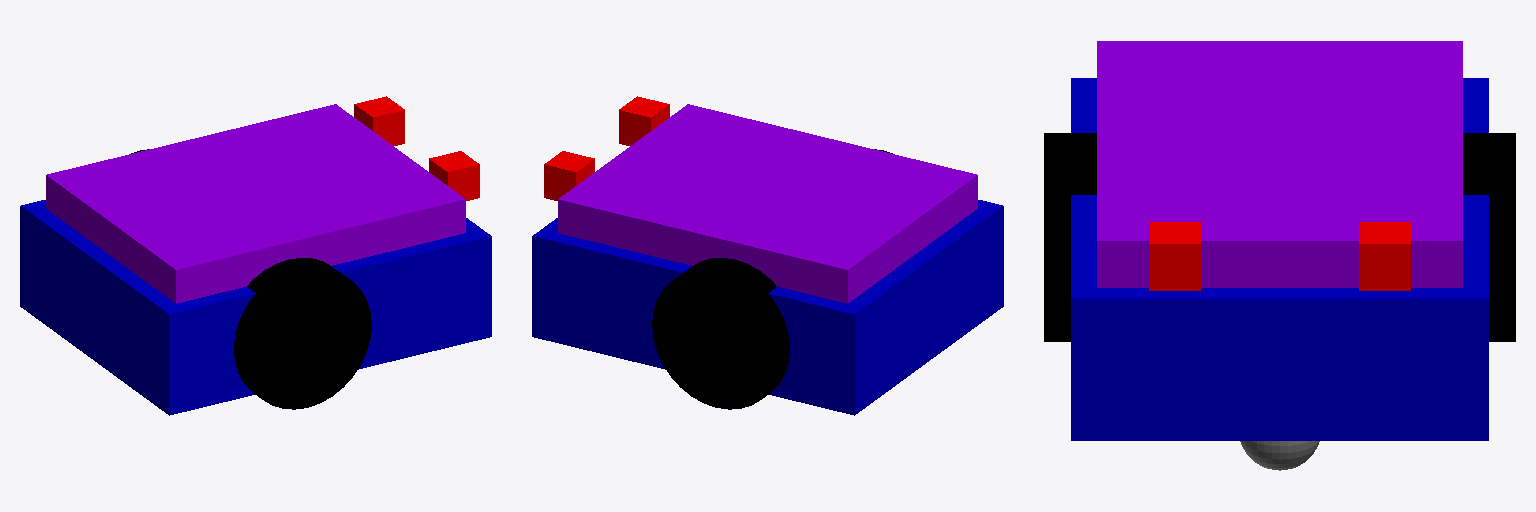
robot.urdf — my_robot:
<?xml version="1.0"?>
<robot name="my_robot">

  <!-- ================== BASE CHASSIS ================== -->
  <link name="base_link">
    <visual>
      <geometry>
        <!-- 0.5 x 0.4 x 0.15 -->
        <box size="0.5 0.4 0.15"/>
      </geometry>
      <material name="blue">
        <color rgba="0 0 0.8 1"/>
      </material>
    </visual>
    <collision>
      <geometry>
        <box size="0.5 0.4 0.15"/>
      </geometry>
    </collision>
    <inertial>
      <mass value="5.0"/>
      <origin xyz="0 0 0" rpy="0 0 0"/>
      <inertia ixx="0.2" ixy="0.0" ixz="0.0"
               iyy="0.3" iyz="0.0"
               izz="0.4"/>
    </inertial>
  </link>

  <!-- ================== PURPLE TOP COVER ================== -->
  <link name="top_cover">
    <visual>
      <geometry>
        <!-- a bit smaller than base -->
        <box size="0.45 0.35 0.05"/>
      </geometry>
      <material name="purple">
        <color rgba="0.6 0 0.9 1"/>
      </material>
    </visual>
    <collision>
      <geometry>
        <box size="0.45 0.35 0.05"/>
      </geometry>
    </collision>
    <inertial>
      <mass value="1.0"/>
      <origin xyz="0 0 0.1" rpy="0 0 0"/>
      <inertia ixx="0.02" ixy="0.0" ixz="0.0"
               iyy="0.03" iyz="0.0"
               izz="0.04"/>
    </inertial>
  </link>

  <joint name="top_cover_joint" type="fixed">
    <parent link="base_link"/>
    <!-- 0.10 m above top of base -->
    <child link="top_cover"/>
    <origin xyz="0 0 0.10" rpy="0 0 0"/>
  </joint>

  <!-- ================== WHEELS ================== -->
  <!-- 0.10 radius, 0.05 thick; axis along Y (like lab robot) -->

  <link name="left_wheel">
    <visual>
      <geometry>
        <cylinder radius="0.10" length="0.05"/>
      </geometry>
      <material name="black">
        <color rgba="0 0 0 1"/>
      </material>
      <!-- rotate so wheel lies in XZ plane -->
      <origin xyz="0 0 0" rpy="1.5707 0 0"/>
    </visual>
    <collision>
      <geometry>
        <cylinder radius="0.10" length="0.05"/>
      </geometry>
      <origin xyz="0 0 0" rpy="1.5707 0 0"/>
    </collision>
    <inertial>
      <mass value="0.7"/>
      <origin xyz="0 0 0" rpy="1.5707 0 0"/>
      <inertia ixx="0.002" ixy="0.0" ixz="0.0"
               iyy="0.002" iyz="0.0"
               izz="0.001"/>
    </inertial>
  </link>

  <link name="right_wheel">
    <visual>
      <geometry>
        <cylinder radius="0.10" length="0.05"/>
      </geometry>
      <material name="black">
        <color rgba="0 0 0 1"/>
      </material>
      <origin xyz="0 0 0" rpy="1.5707 0 0"/>
    </visual>
    <collision>
      <geometry>
        <cylinder radius="0.10" length="0.05"/>
      </geometry>
      <origin xyz="0 0 0" rpy="1.5707 0 0"/>
    </collision>
    <inertial>
      <mass value="0.7"/>
      <origin xyz="0 0 0" rpy="1.5707 0 0"/>
      <inertia ixx="0.002" ixy="0.0" ixz="0.0"
               iyy="0.002" iyz="0.0"
               izz="0.001"/>
    </inertial>
  </link>

  <!-- wheel centres: a bit back, ±0.20 m sideways -->
  <joint name="left_wheel_joint" type="continuous">
    <parent link="base_link"/>
    <child link="left_wheel"/>
    <origin xyz="-0.05 0.20 0" rpy="0 0 0"/>
    <axis xyz="0 1 0"/>
  </joint>

  <joint name="right_wheel_joint" type="continuous">
    <parent link="base_link"/>
    <child link="right_wheel"/>
    <origin xyz="-0.05 -0.20 0" rpy="0 0 0"/>
    <axis xyz="0 1 0"/>
  </joint>

  <!-- ================== CASTER WHEEL ================== -->
  <link name="caster_wheel">
    <visual>
      <geometry>
        <sphere radius="0.04"/>
      </geometry>
      <material name="grey">
        <color rgba="0.5 0.5 0.5 1"/>
      </material>
    </visual>
    <collision>
      <geometry>
        <sphere radius="0.04"/>
      </geometry>
    </collision>
    <inertial>
      <mass value="0.3"/>
      <origin xyz="0 0 0" rpy="0 0 0"/>
      <inertia ixx="0.0002" ixy="0.0" ixz="0.0"
               iyy="0.0002" iyz="0.0"
               izz="0.0002"/>
    </inertial>
  </link>

  <!-- Put caster slightly forward & centred, touching ground -->
  <joint name="caster_joint" type="fixed">
    <parent link="base_link"/>
    <child link="caster_wheel"/>
    <origin xyz="0.20 0 -0.085" rpy="0 0 0"/>
  </joint>

  <!-- ================== STEREO CAMERAS ================== -->

  <!-- Left camera body -->
  <link name="left_camera_link">
    <visual>
      <geometry>
        <box size="0.05 0.05 0.05"/>
      </geometry>
      <material name="red">
        <color rgba="1 0 0 1"/>
      </material>
    </visual>
    <collision>
      <geometry>
        <box size="0.05 0.05 0.05"/>
      </geometry>
    </collision>
    <inertial>
      <mass value="0.05"/>
      <origin xyz="0 0 0" rpy="0 0 0"/>
      <inertia ixx="0.0001" ixy="0.0" ixz="0.0"
               iyy="0.0001" iyz="0.0"
               izz="0.0001"/>
    </inertial>
  </link>

  <!-- Right camera body -->
  <link name="right_camera_link">
    <visual>
      <geometry>
        <box size="0.05 0.05 0.05"/>
      </geometry>
      <material name="red">
        <color rgba="1 0 0 1"/>
      </material>
    </visual>
    <collision>
      <geometry>
        <box size="0.05 0.05 0.05"/>
      </geometry>
    </collision>
    <inertial>
      <mass value="0.05"/>
      <origin xyz="0 0 0" rpy="0 0 0"/>
      <inertia ixx="0.0001" ixy="0.0" ixz="0.0"
               iyy="0.0001" iyz="0.0"
               izz="0.0001"/>
    </inertial>
  </link>

  <!-- Optical frames (no visuals, just TF) -->
  <link name="left_camera_optical">
    <inertial>
      <mass value="0.001"/>
      <origin xyz="0 0 0" rpy="0 0 0"/>
      <inertia ixx="1e-5" ixy="0.0" ixz="0.0"
               iyy="1e-5" iyz="0.0"
               izz="1e-5"/>
    </inertial>
  </link>

  <link name="right_camera_optical">
    <inertial>
      <mass value="0.001"/>
      <origin xyz="0 0 0" rpy="0 0 0"/>
      <inertia ixx="1e-5" ixy="0.0" ixz="0.0"
               iyy="1e-5" iyz="0.0"
               izz="1e-5"/>
    </inertial>
  </link>

  <!-- Mount cameras at front, 0.2 m baseline, 0.12 m high -->
  <joint name="left_camera_joint" type="fixed">
    <parent link="base_link"/>
    <child link="left_camera_link"/>
    <origin xyz="0.25 0.10 0.12" rpy="0 0 0"/>
  </joint>

  <joint name="right_camera_joint" type="fixed">
    <parent link="base_link"/>
    <child link="right_camera_link"/>
    <origin xyz="0.25 -0.10 0.12" rpy="0 0 0"/>
  </joint>

  <!-- Optical frame rotation: x forward, y left, z up  -->
  <joint name="left_camera_optical_joint" type="fixed">
    <parent link="left_camera_link"/>
    <child link="left_camera_optical"/>
    <origin xyz="0 0 0" rpy="-1.5707 0 -1.5707"/>
  </joint>

  <joint name="right_camera_optical_joint" type="fixed">
    <parent link="right_camera_link"/>
    <child link="right_camera_optical"/>
    <origin xyz="0 0 0" rpy="-1.5707 0 -1.5707"/>
  </joint>
 <!-- Left camera sensor link -->
 <gazebo reference="left_camera_link">
  <sensor type="camera" name="left_camera_sensor">
    <update_rate>30</update_rate>
    <camera>
      <horizontal_fov>1.0</horizontal_fov>
      <image>
        <width>640</width>
        <height>480</height>
        <format>R8G8B8</format>
      </image>
      <clip>
        <near>0.1</near>
        <far>10</far>
      </clip>
    </camera>
    <always_on>true</always_on>
    <visualize>true</visualize>
    <topic>/left_camera/image_raw</topic>
  </sensor>
</gazebo>
<!-- Right camera sensor link -->
<gazebo reference="right_camera_link">
  <sensor type="camera" name="right_camera_sensor">
    <update_rate>30</update_rate>
    <camera>
      <horizontal_fov>1.0</horizontal_fov>
      <image>
        <width>640</width>
        <height>480</height>
        <format>R8G8B8</format>
      </image>
      <clip>
        <near>0.1</near>
        <far>10</far>
      </clip>
    </camera>
    <always_on>true</always_on>
    <visualize>true</visualize>
    <topic>/right_camera/image_raw</topic>
  </sensor>
</gazebo>
 
</robot>

--- Facts derived from the render (not from the file) ---
Views: 3 orthographic renders of the robot side by side, from view 1: azimuth 30°, elevation 25°; view 2: azimuth 150°, elevation 25°; view 3: azimuth 270°, elevation 25°.
Model my_robot with 9 links and 8 joints (2 continuous, 6 fixed), rooted at base_link, posed every joint at zero.
Visible links, largest first — view 1: top_cover, base_link, right_wheel, right_camera_link, left_camera_link; view 2: top_cover, base_link, left_wheel, left_camera_link, right_camera_link; view 3: top_cover, base_link, left_wheel, right_wheel, left_camera_link, right_camera_link, caster_wheel.
Boxes of the visible links, left/top/right/bottom form: top_cover: left=46, top=104, right=465, bottom=303; base_link: left=20, top=200, right=491, bottom=415; right_wheel: left=234, top=258, right=371, bottom=409; right_camera_link: left=429, top=151, right=479, bottom=200; left_camera_link: left=354, top=96, right=404, bottom=145; top_cover: left=558, top=104, right=977, bottom=303; base_link: left=532, top=200, right=1003, bottom=415; left_wheel: left=652, top=258, right=789, bottom=409; left_camera_link: left=544, top=151, right=594, bottom=200; right_camera_link: left=619, top=96, right=669, bottom=145; top_cover: left=1097, top=41, right=1462, bottom=287; base_link: left=1071, top=78, right=1488, bottom=440; left_wheel: left=1463, top=133, right=1515, bottom=341; right_wheel: left=1044, top=133, right=1096, bottom=341; left_camera_link: left=1359, top=222, right=1410, bottom=290; right_camera_link: left=1149, top=222, right=1200, bottom=290; caster_wheel: left=1240, top=441, right=1319, bottom=470.
Bounding box of the posed robot: 0.525 × 0.45 × 0.27 m (x, y, z).
Geometry: primitives only (box / cylinder / sphere), no mesh files.
